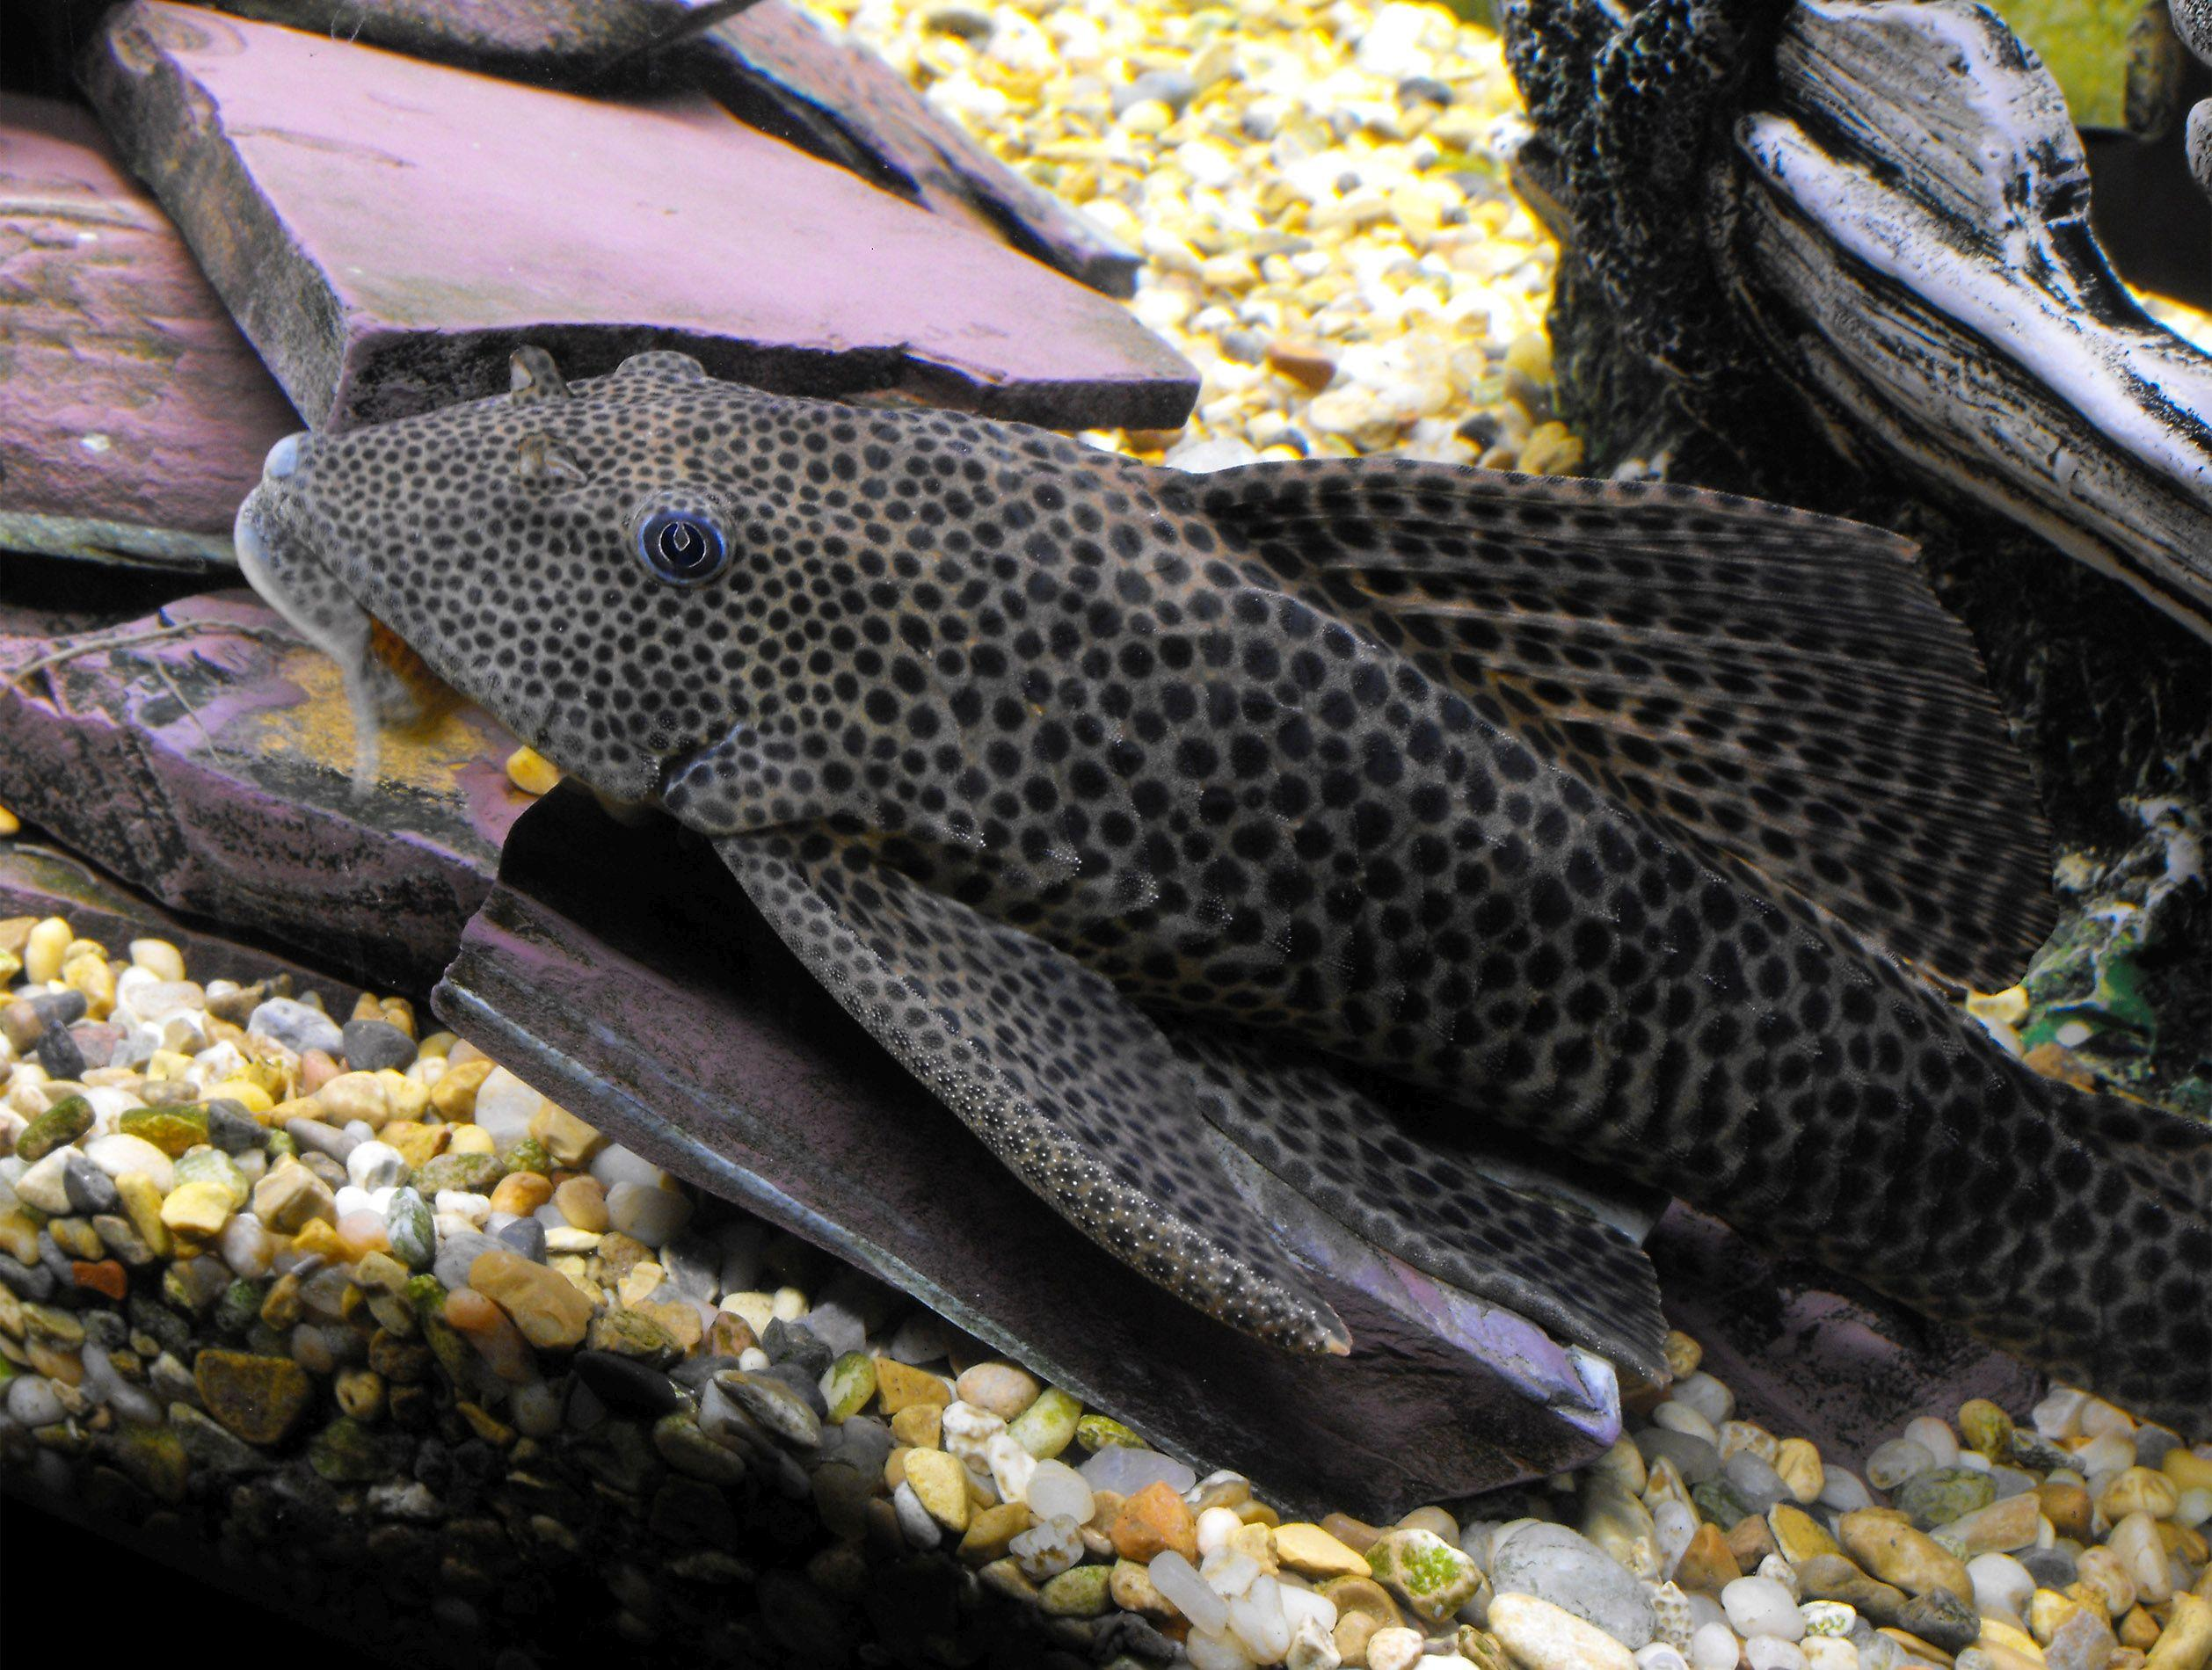Janitor Fish: (244, 333, 2212, 1454)
